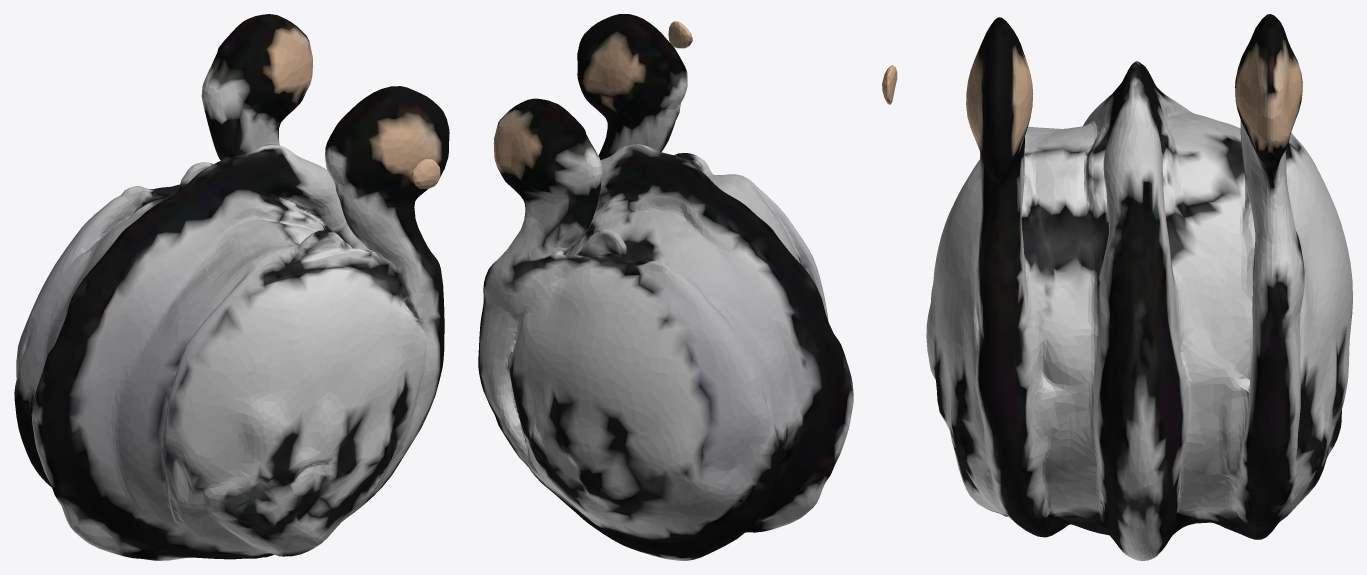
Rendered from potionwis.glb.
3 renders of one model, left to right at view 1: azimuth 30°, elevation 25°; view 2: azimuth 150°, elevation 25°; view 3: azimuth 270°, elevation 25°, orthographic. The views are drawn at different scales.
Parts seen in each view (by area): view 1: geometry_0; view 2: geometry_0; view 3: geometry_0.
Boxes of the visible parts, <box> form: geometry_0: <box>14,14,449,560</box>; geometry_0: <box>478,14,853,560</box>; geometry_0: <box>882,14,1352,560</box>.
Size of the model in its own units: 0.375 by 0.4609 by 0.3401.
